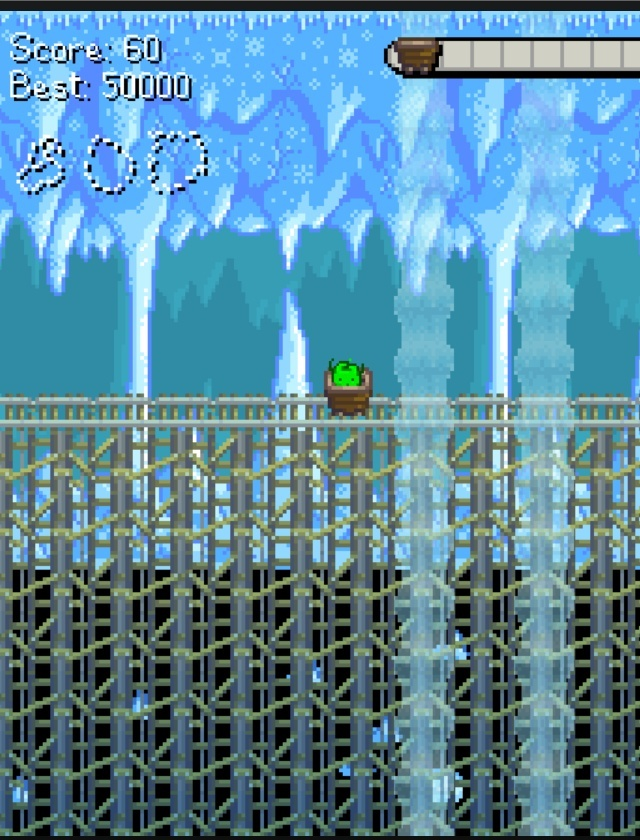minecart: (324, 368, 370, 414)
score: (118, 29, 161, 66)
tracks: (378, 388, 640, 434)
